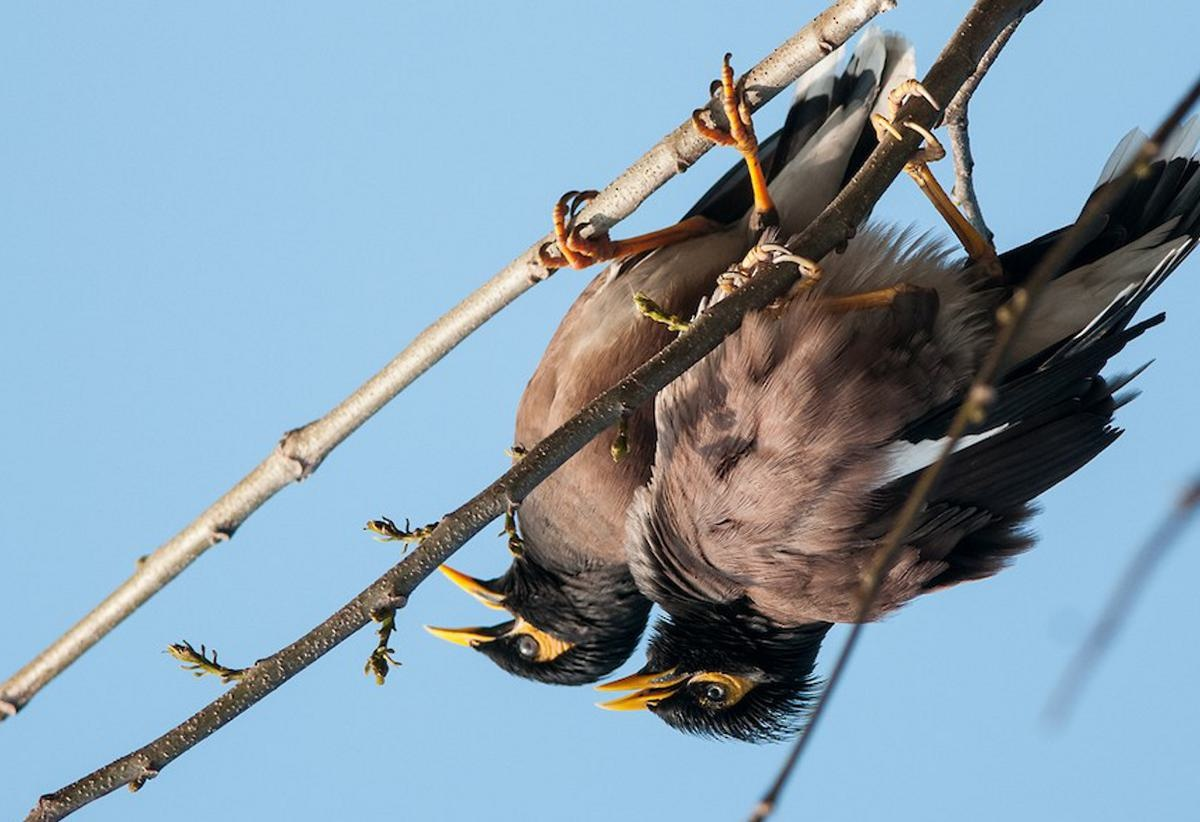myna: (599, 209, 1135, 768), (417, 208, 746, 718)
